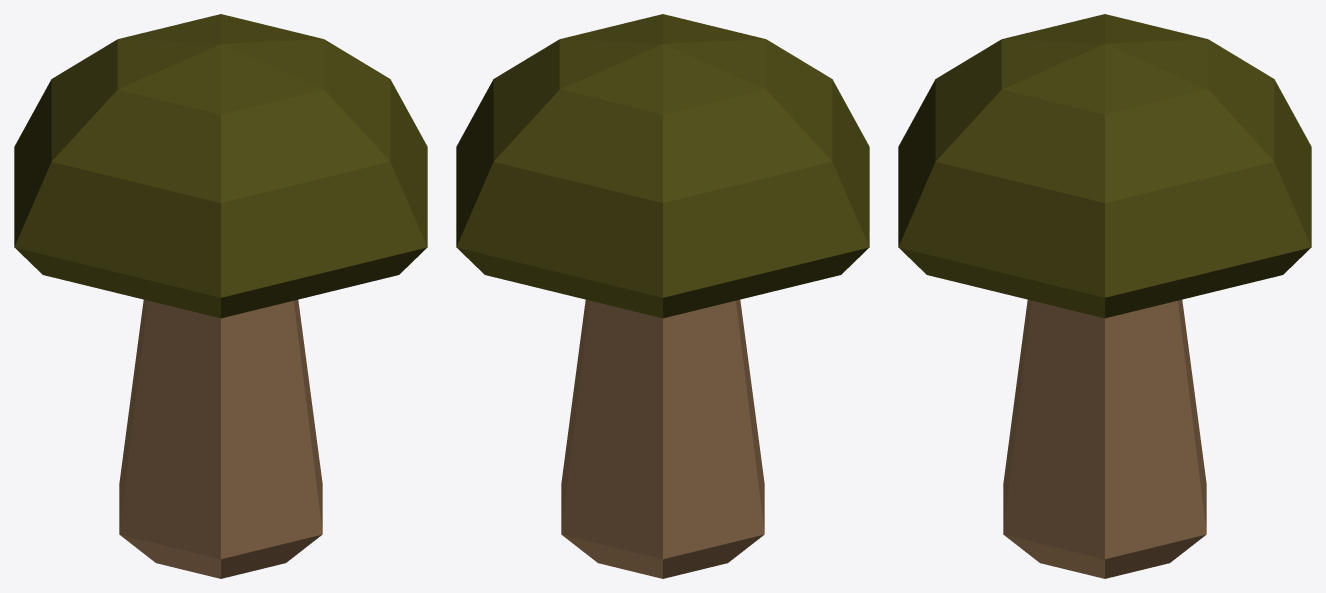
The model's file is mushroom2.FBX.
3 views of the same model, side by side, from view 1: azimuth 30°, elevation 25°; view 2: azimuth 150°, elevation 25°; view 3: azimuth 270°, elevation 25° (orthographic).
Parts seen in each view (by area): view 1: mushroom2; view 2: mushroom2; view 3: mushroom2.
Part boxes in pixels (box(x1,y1,x2,y2)): mushroom2: box(14, 14, 427, 578); mushroom2: box(456, 14, 869, 578); mushroom2: box(898, 14, 1311, 578).
Bounding box in the file's own units: 11.27 × 9.76 × 13.13.
